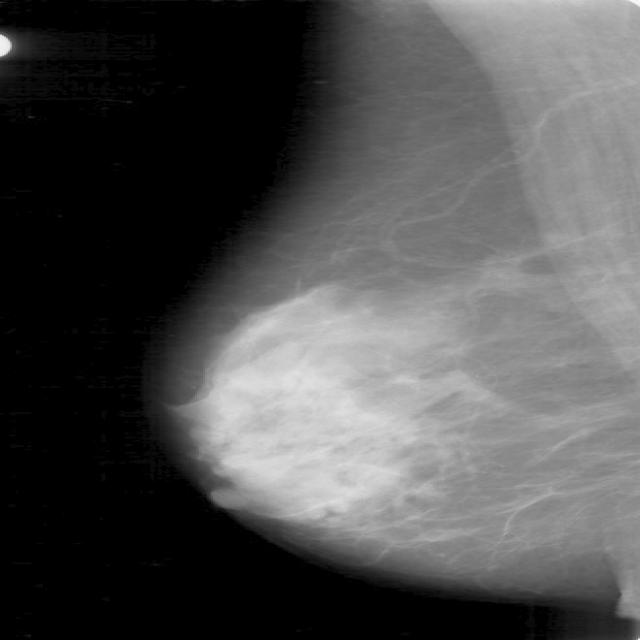tumour: (468, 247, 540, 294)
